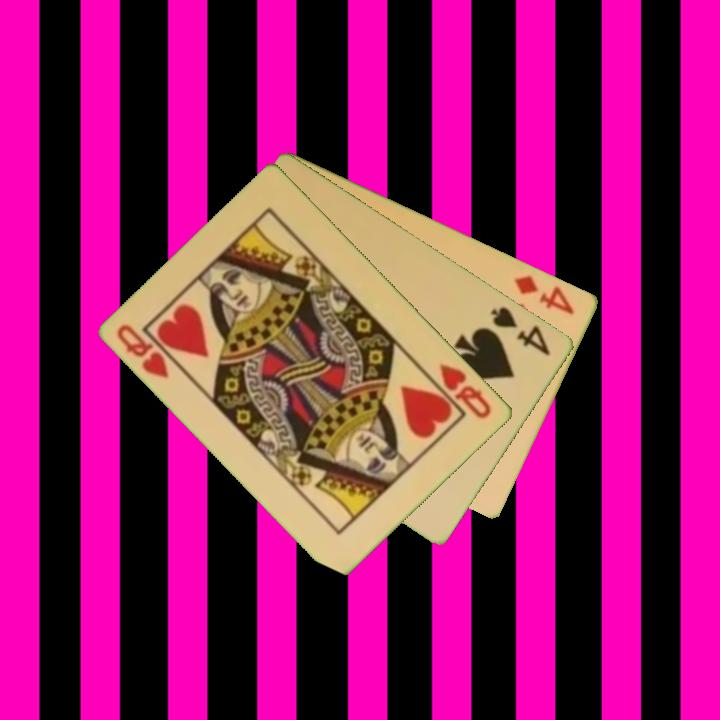4d: (511, 271, 578, 318)
4s: (488, 303, 554, 359)
Qh: (113, 320, 173, 382), (436, 360, 495, 422)
